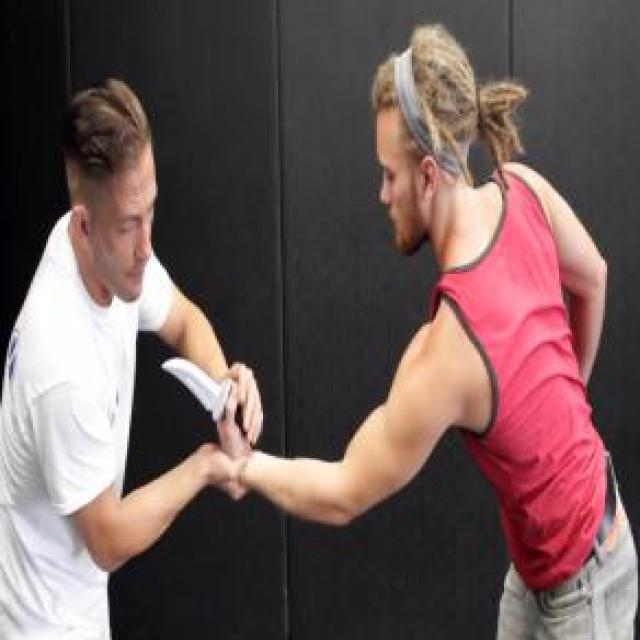knife: (156, 344, 260, 447)
